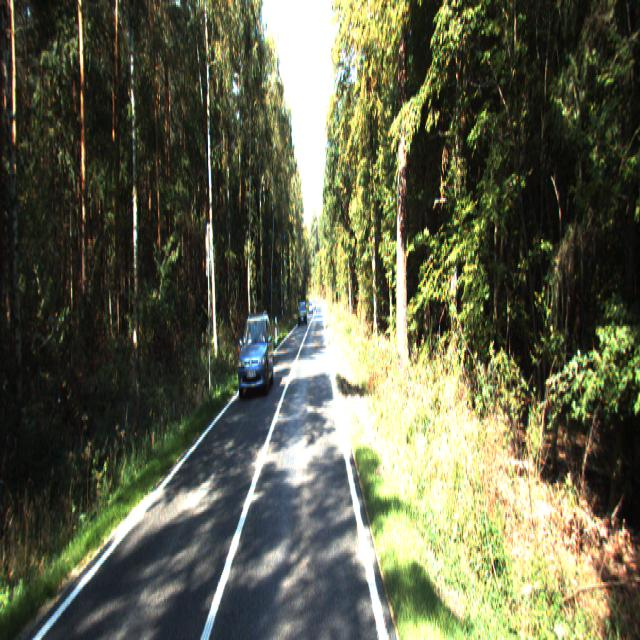Car: (237, 310, 276, 400)
